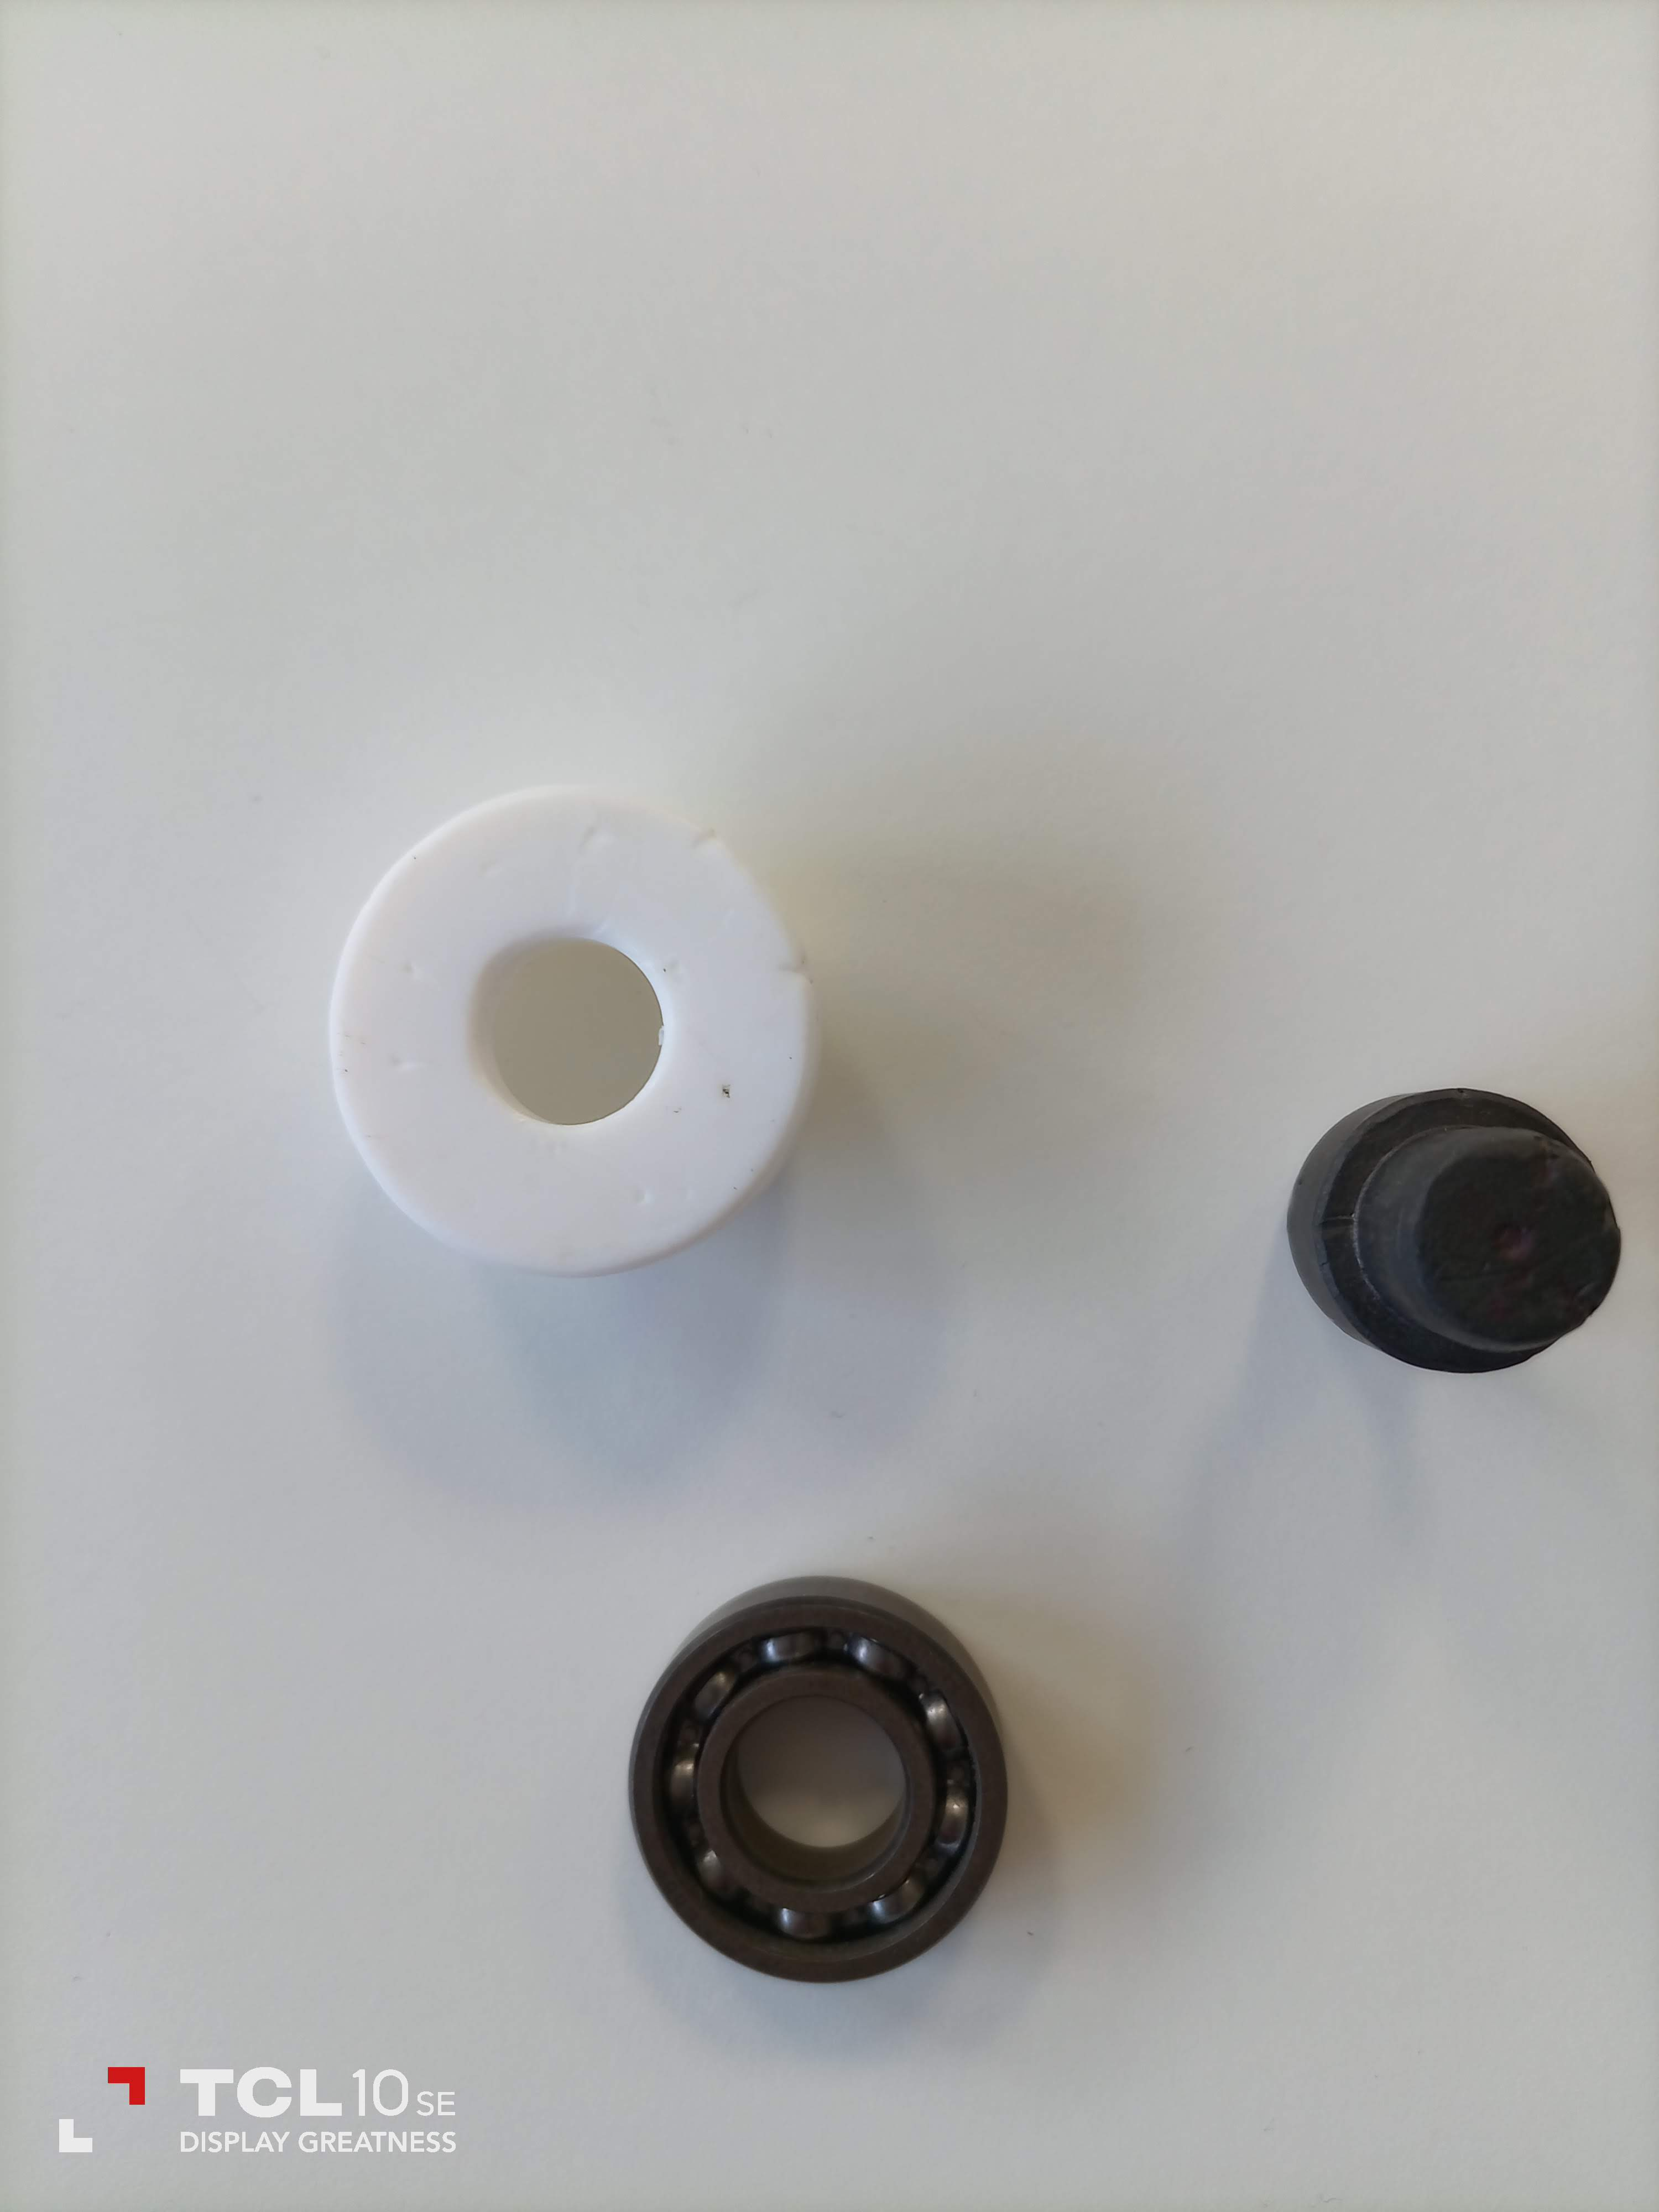Ardatza: (1290, 1066, 1622, 1404)
Roda: (622, 1585, 1007, 1980)
Tapa: (324, 789, 819, 1278)
